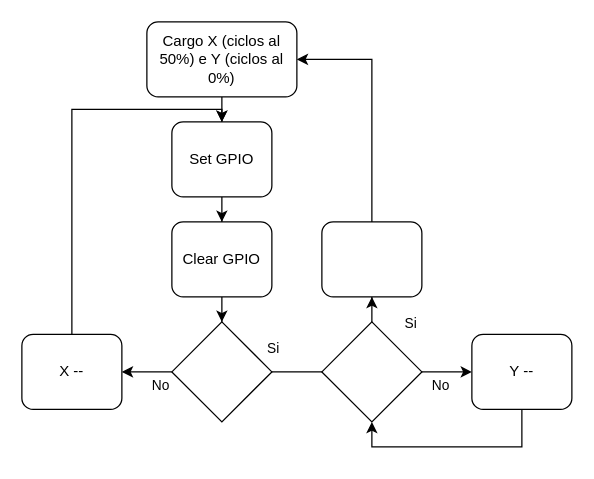
This 594x479 diagram has some shape labels left out. The shapes that lost their labels are listed below. From the top down, each one's box as (x1, y1, x2, y2) in pixels, then its label:
(321, 221, 422, 297): Set IRQ
(171, 321, 272, 422): X == 0?
(321, 321, 422, 422): Y == 0?
